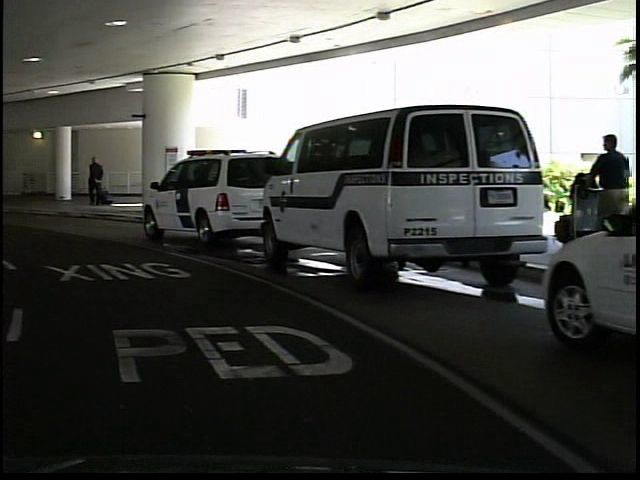person: (583, 128, 626, 266), (81, 153, 106, 212)
